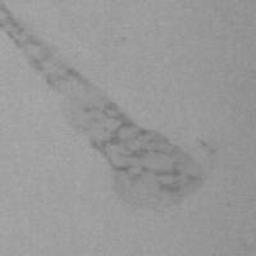Water spot: (0, 0, 211, 214), (192, 137, 221, 156)
